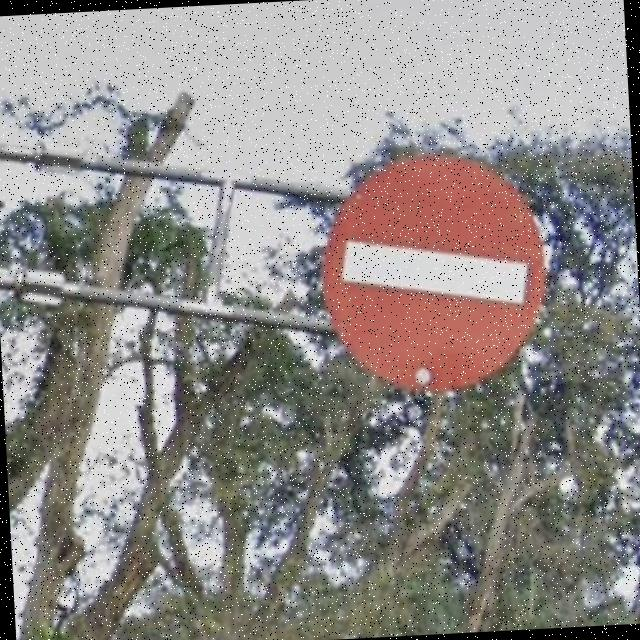Zakaz wjazdu: (314, 148, 548, 394)
